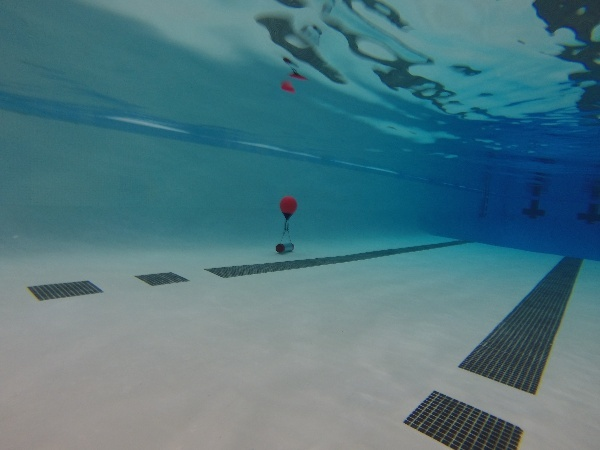buoy_red: (278, 193, 298, 221)
